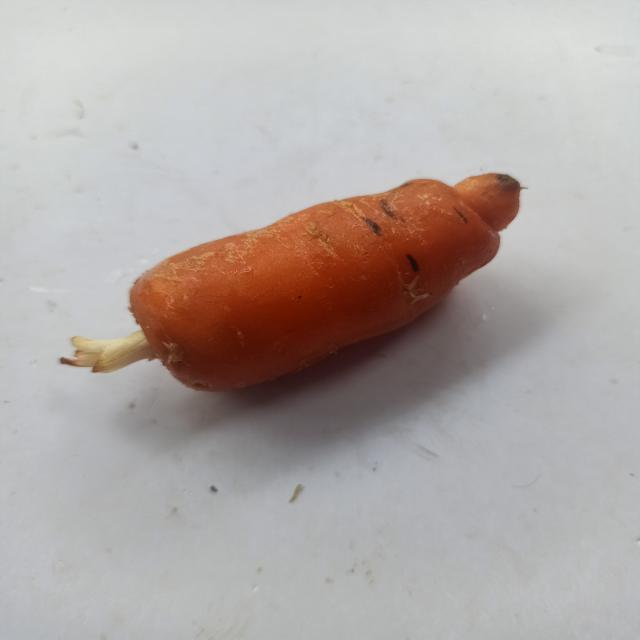Carrot: (52, 164, 542, 406)
